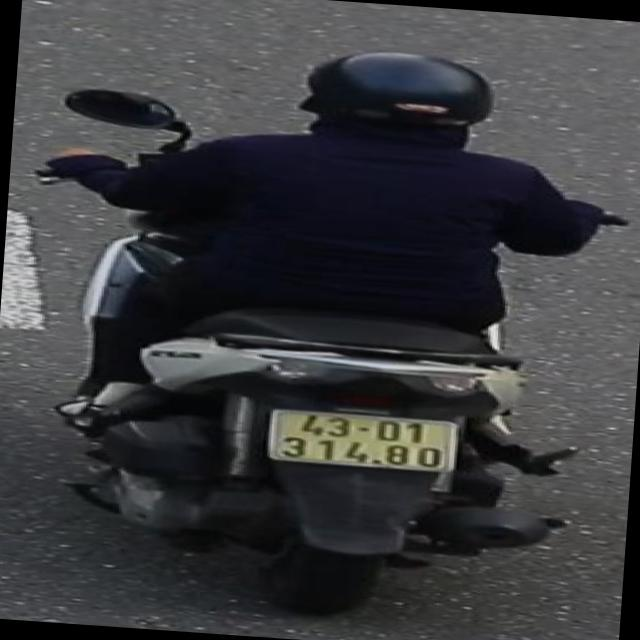LP: (251, 395, 482, 490)
helmet: (294, 36, 498, 156)
